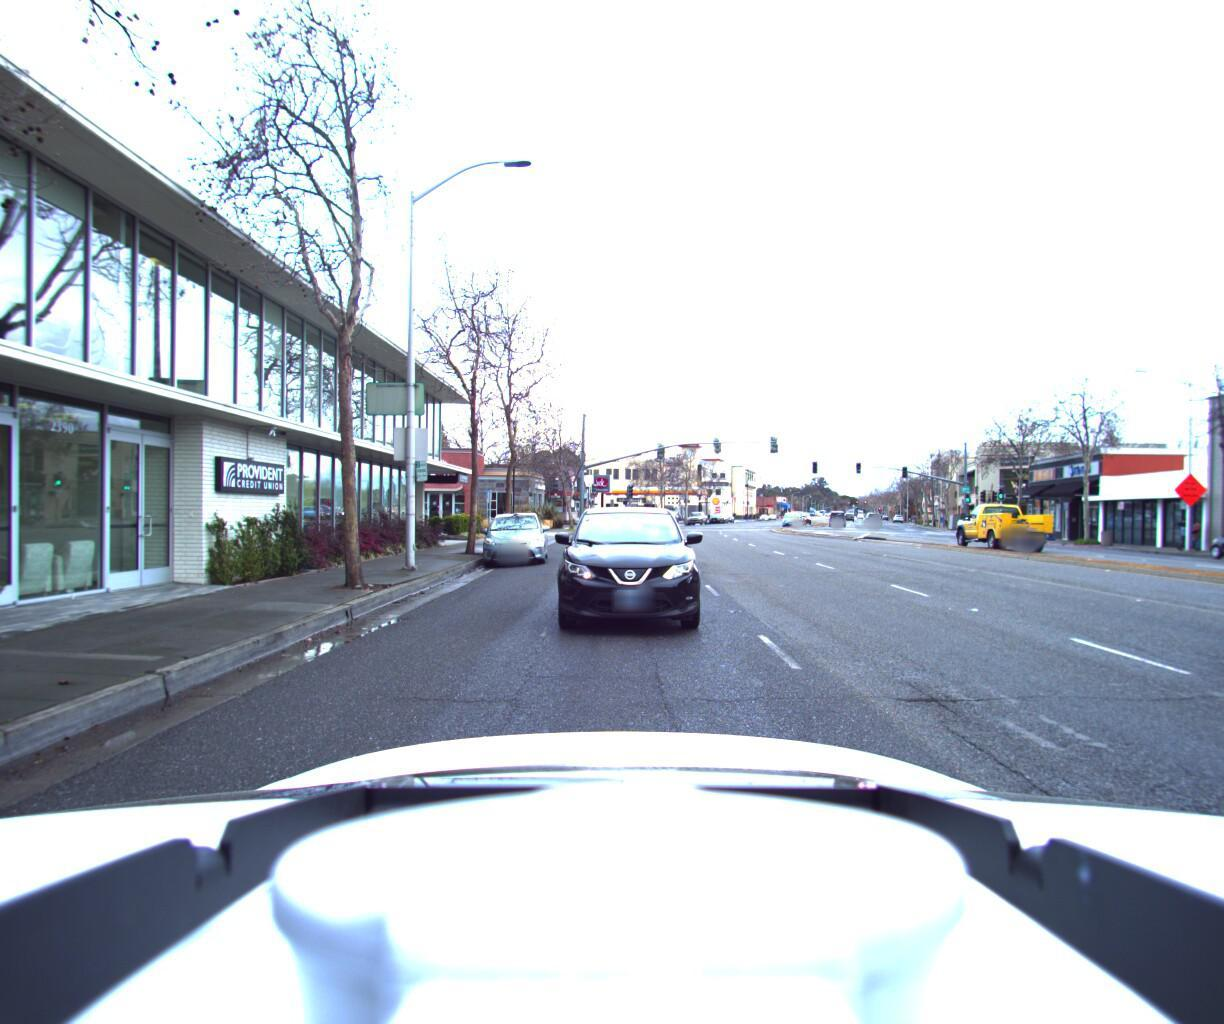car: (551, 501, 703, 643), (936, 499, 1042, 555), (474, 510, 544, 570), (1191, 527, 1224, 571)
